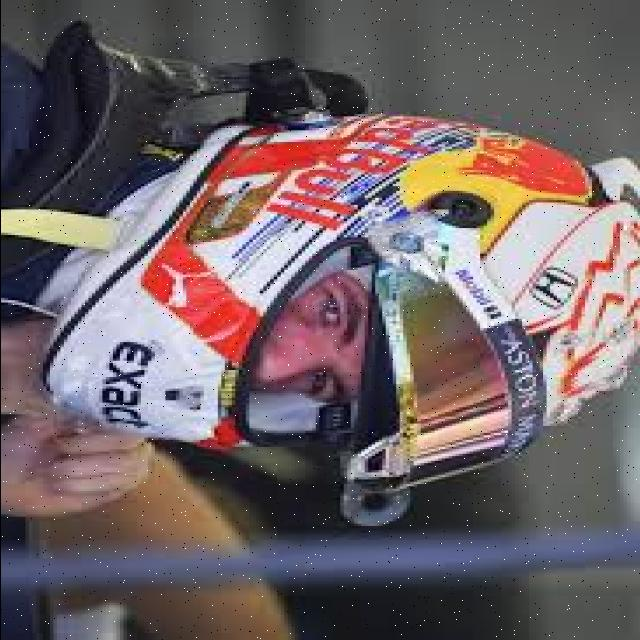Helmet: (4, 30, 640, 525)
